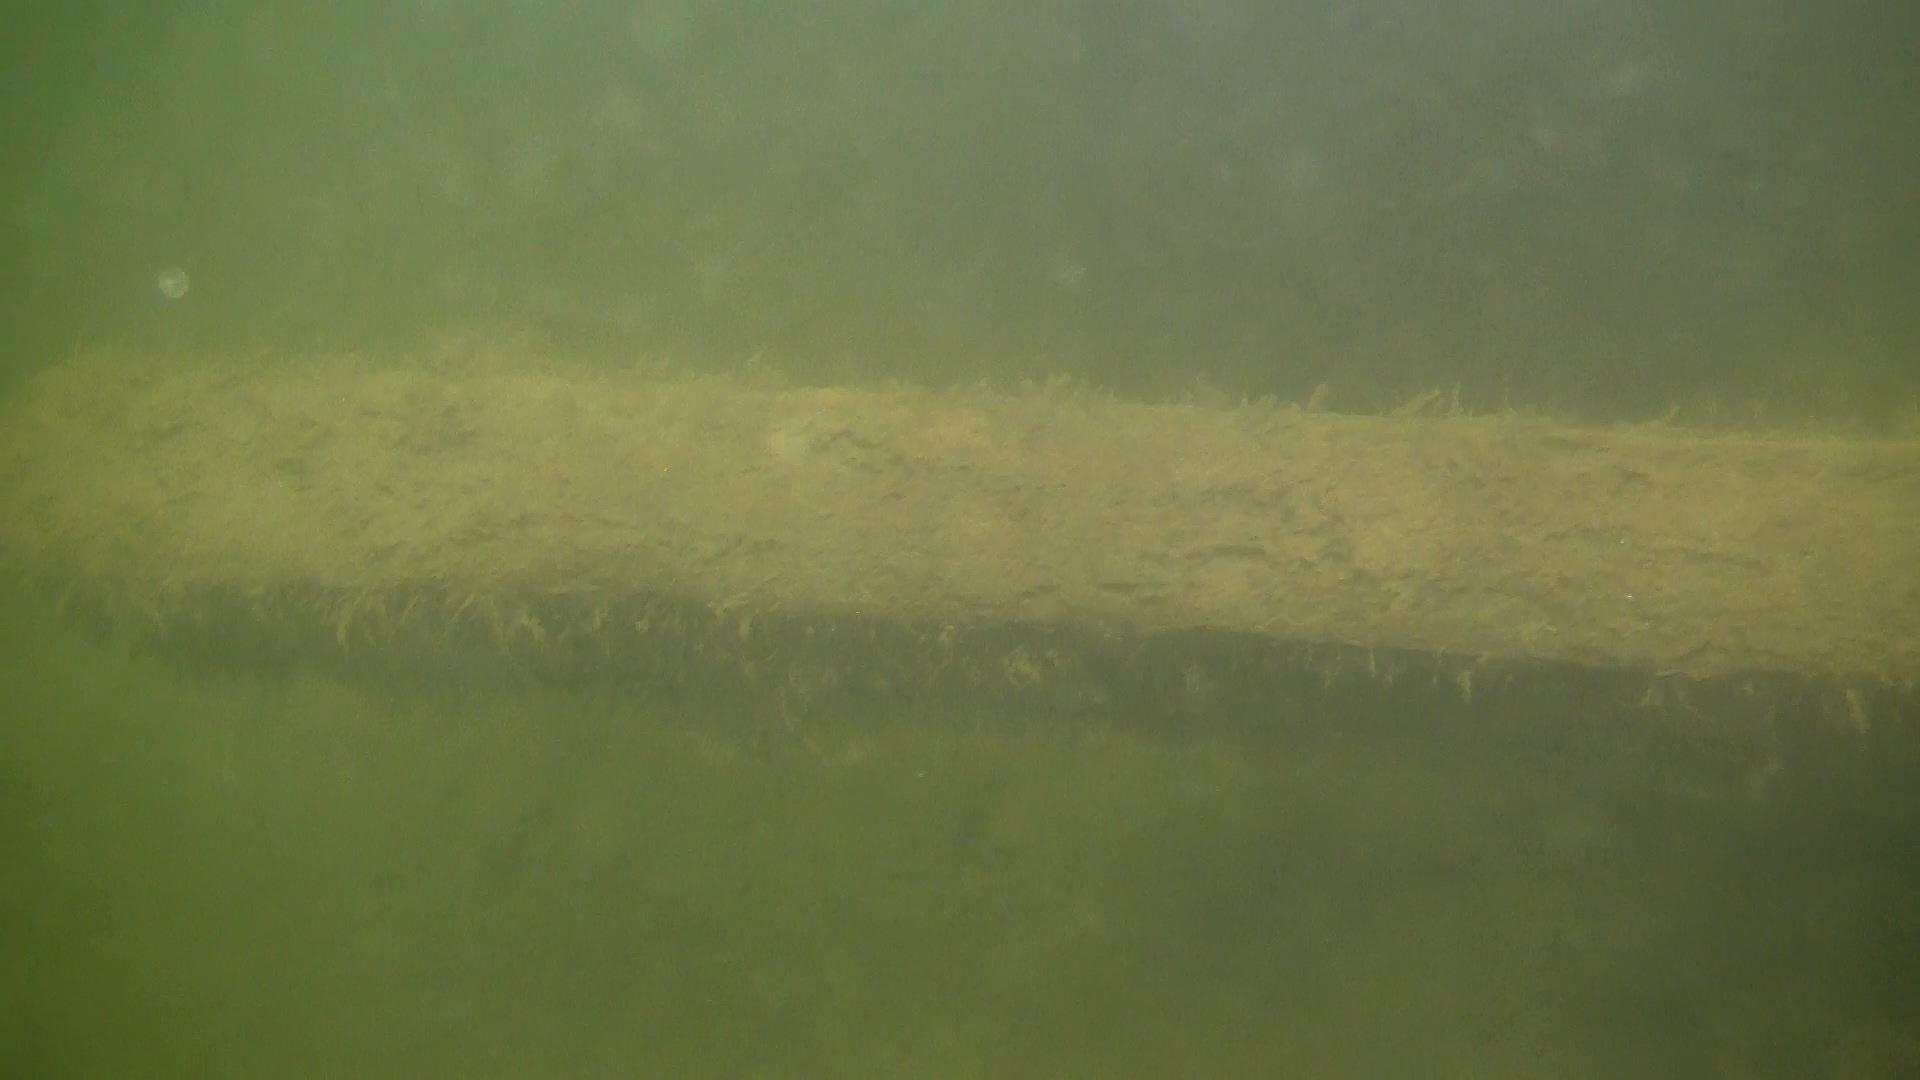wood: (0, 344, 1920, 795)
